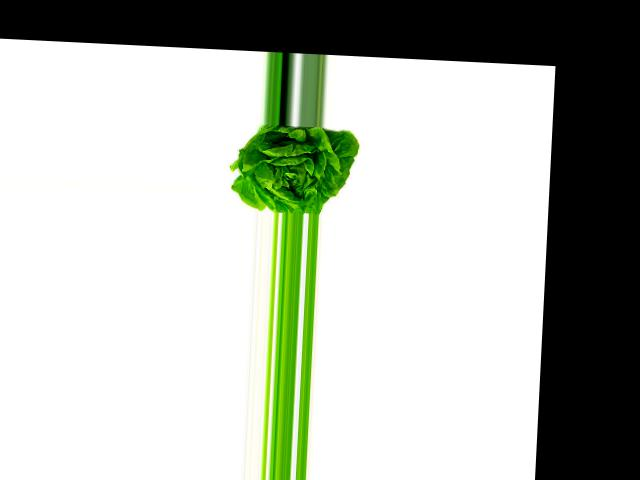lettuce: (233, 122, 362, 216)
